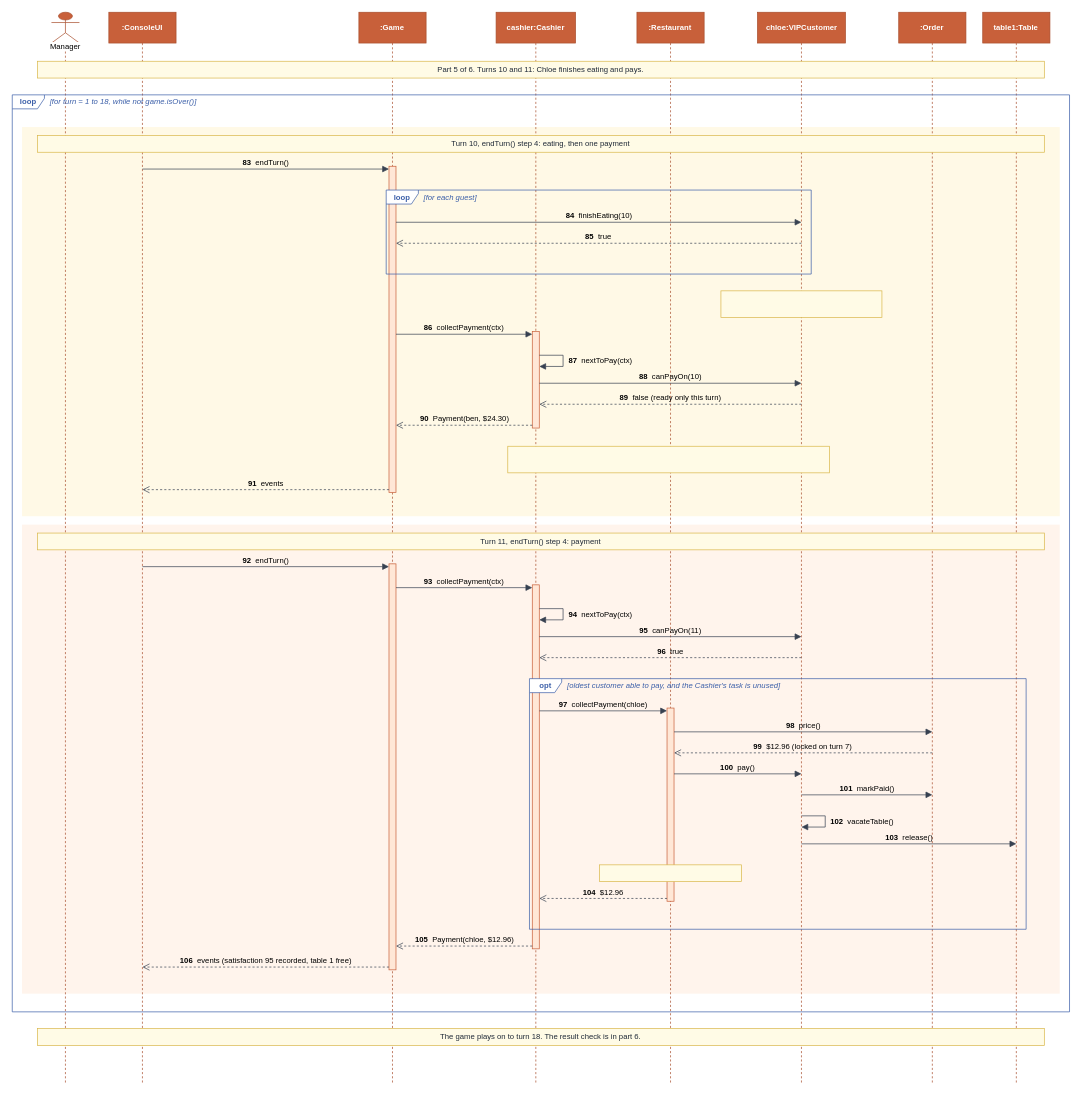
The diagram is 1082 pixels wide and 1096 high, and some of its shapes have lost their labels. The centre of each missing label's shape, as x and y in pixels:
"Ben has been ready since turn 9, so he pays first. Chloe waits for turn 11." belongs at (x=668, y=459).
"EATING to READY_TO_PAY, readyToPayTurn = 10" belongs at (x=801, y=303).
"revenue = revenue.plus($12.96)" belongs at (x=670, y=873).
